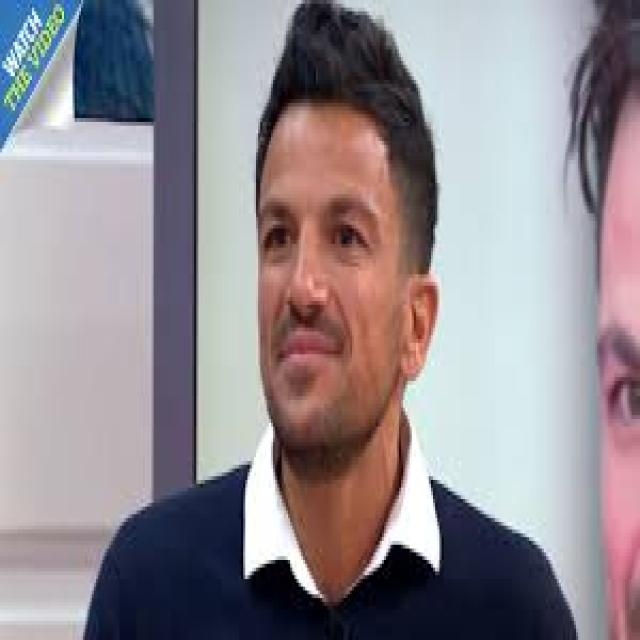normal_face: (261, 90, 418, 467)
